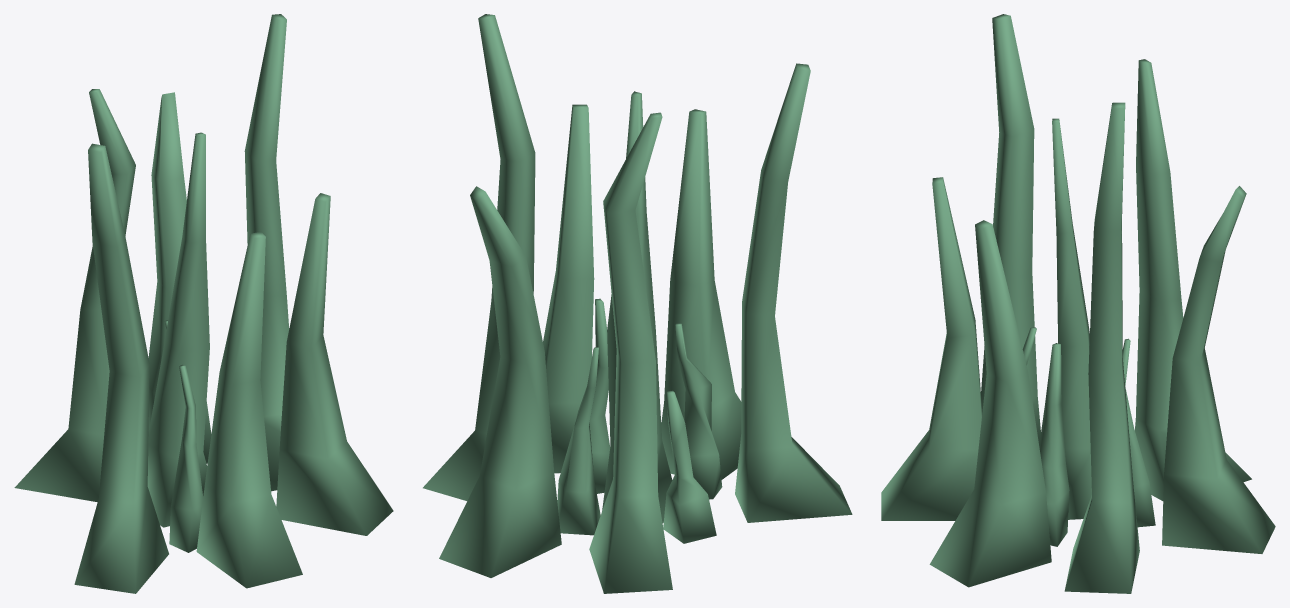
The model's file is Grass1.fbx.
The picture shows the model from 3 angles, left to right: view 1: azimuth 30°, elevation 25°; view 2: azimuth 150°, elevation 25°; view 3: azimuth 270°, elevation 25°; orthographic projection. The views are drawn at different scales.
Visible parts, largest first — view 1: Grass1; view 2: Grass1; view 3: Grass1.
Boxes of the visible parts, box(x1,y1,x2,y2) form: Grass1: box(14, 14, 393, 593); Grass1: box(423, 14, 852, 593); Grass1: box(881, 14, 1275, 593).
Bounding box in the file's own units: 33.11 × 43.58 × 33.67.
